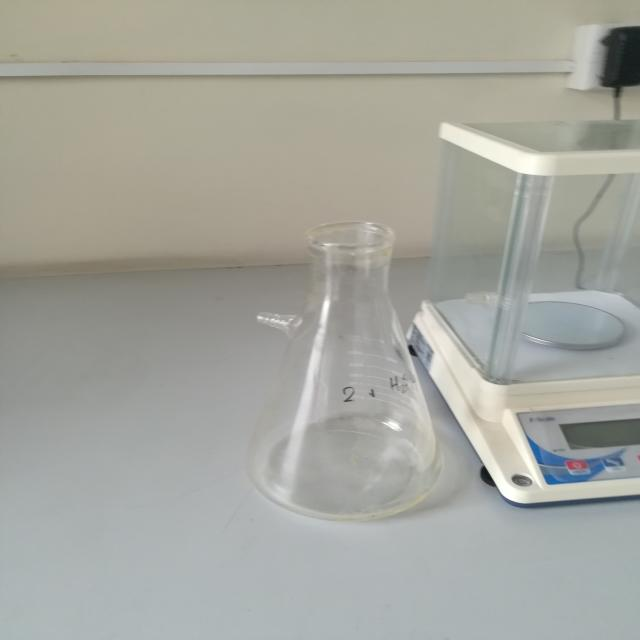Conical_Flask: (213, 201, 499, 548)
